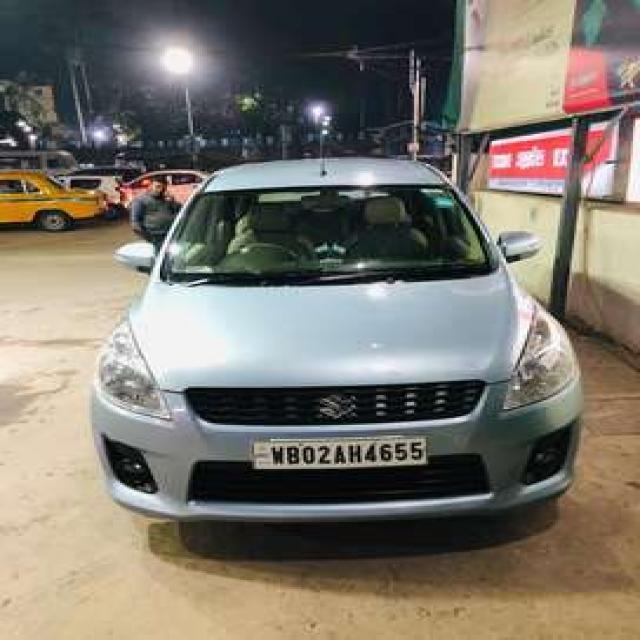licenseplate: (254, 435, 427, 468)
